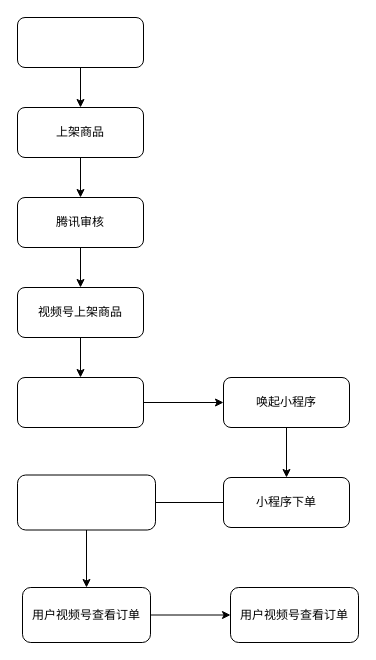
Some shapes in this 376 by 660 pixel diagram are drawn without their labels. Each missing label, with the centre of its shape:
创建订单，同步到视频号: (x=86, y=502)
接入商品api: (x=80, y=42)
用户视频号商品点击: (x=80, y=402)
